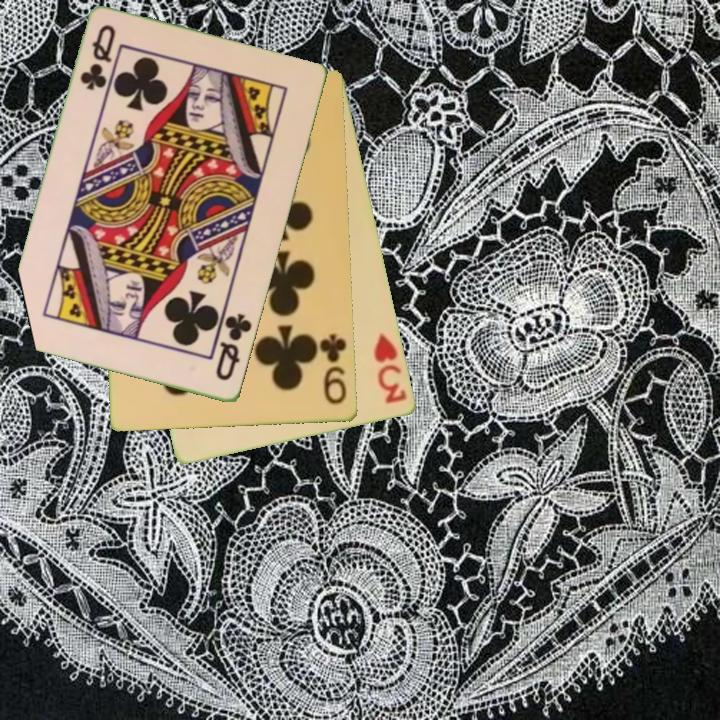3h: (370, 329, 410, 407)
9c: (316, 331, 350, 408)
Qc: (212, 310, 255, 385), (77, 21, 119, 94)
